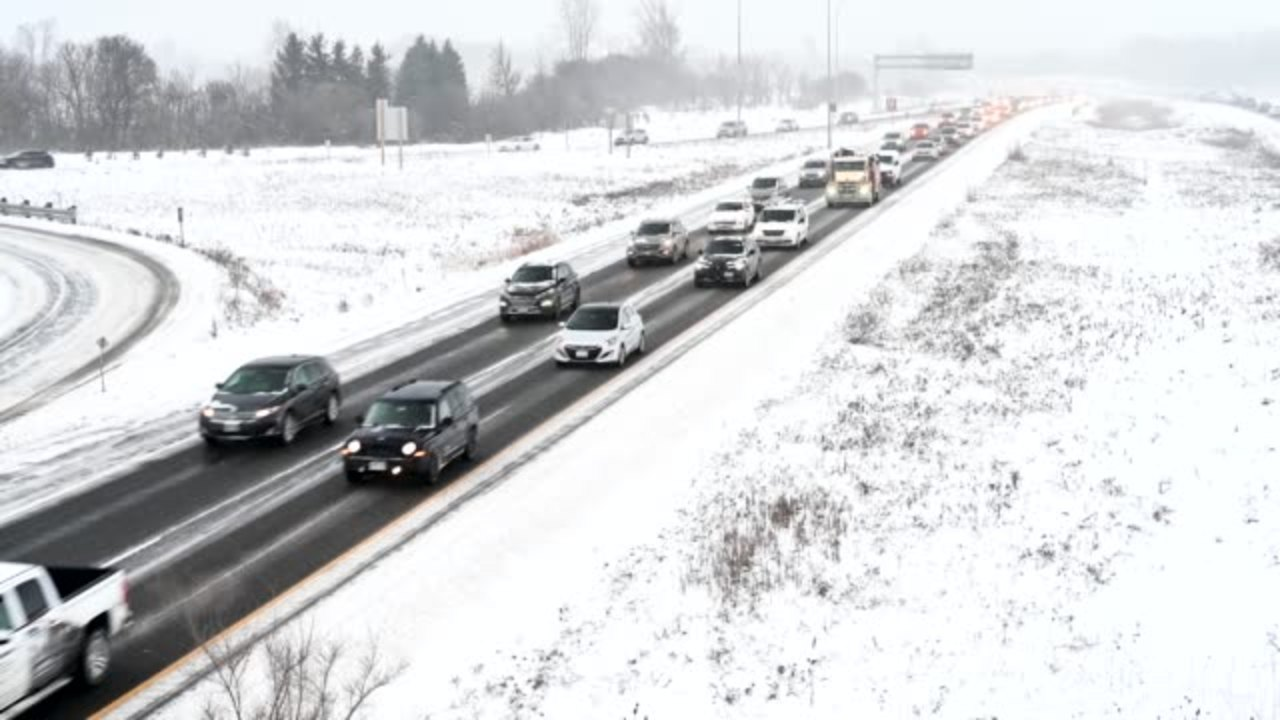car: (0, 558, 134, 719), (337, 378, 481, 487), (197, 354, 347, 449), (554, 300, 648, 368), (501, 259, 582, 323), (693, 234, 763, 289), (626, 217, 683, 267), (753, 203, 810, 250), (705, 200, 756, 232), (5, 146, 57, 170), (876, 152, 899, 186), (800, 157, 826, 187), (746, 180, 784, 200), (494, 132, 536, 150), (713, 118, 749, 139), (614, 130, 648, 147), (912, 140, 938, 161), (878, 133, 904, 152), (773, 119, 797, 136), (908, 122, 928, 140), (940, 126, 960, 144), (955, 119, 975, 135), (940, 110, 953, 121)
truck: (826, 153, 880, 206)
